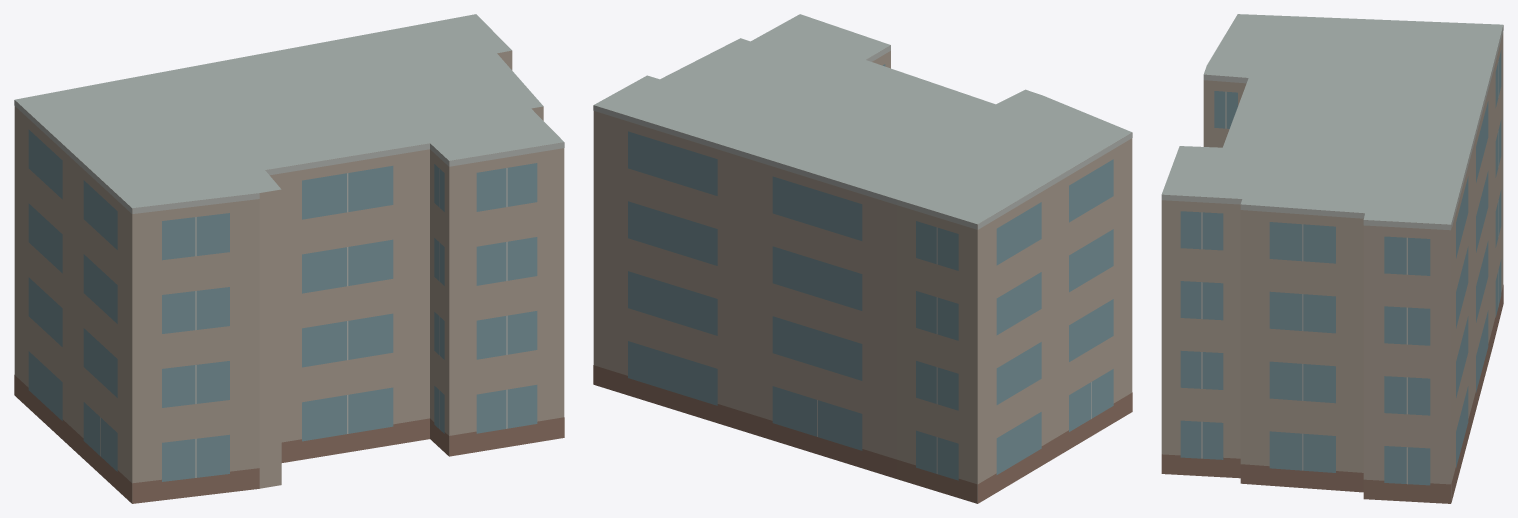
The model's file is survey-upis-32642815.glb.
3 renders of one model, left to right at view 1: azimuth 30°, elevation 25°; view 2: azimuth 150°, elevation 25°; view 3: azimuth 270°, elevation 25°, orthographic. The views are drawn at different scales.
Visible parts, largest first — view 1: survey-upis-32642815.tmp; view 2: survey-upis-32642815.tmp; view 3: survey-upis-32642815.tmp.
Boxes of the visible parts, x1=… form: survey-upis-32642815.tmp: x1=14, y1=14, x2=564, y2=503; survey-upis-32642815.tmp: x1=593, y1=14, x2=1132, y2=503; survey-upis-32642815.tmp: x1=1161, y1=14, x2=1503, y2=503.
Bounding box in the file's own units: 19.75 × 12.2 × 13.55.
